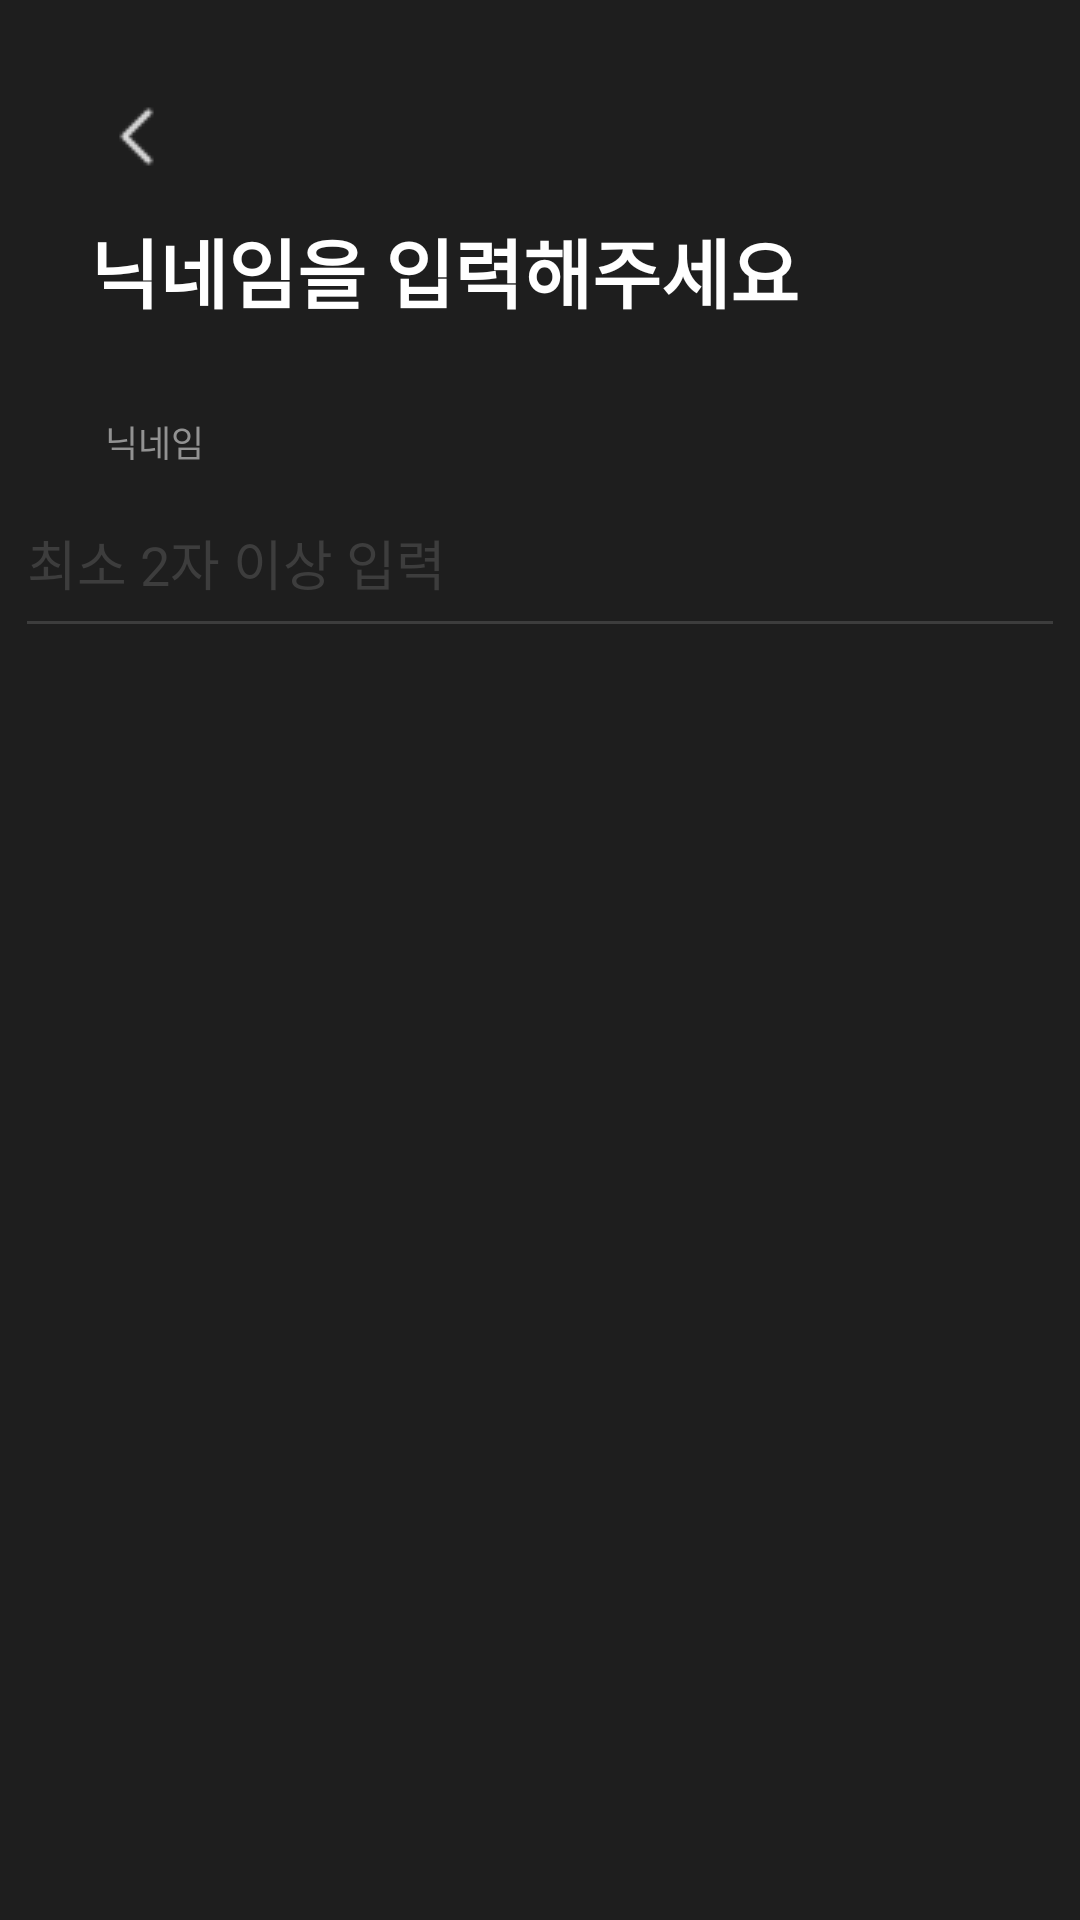

Locate icon controls on the screen. Image size 1080*1920, boxes as (x1, y1, x2, y2).
back: (119, 107, 154, 166)
